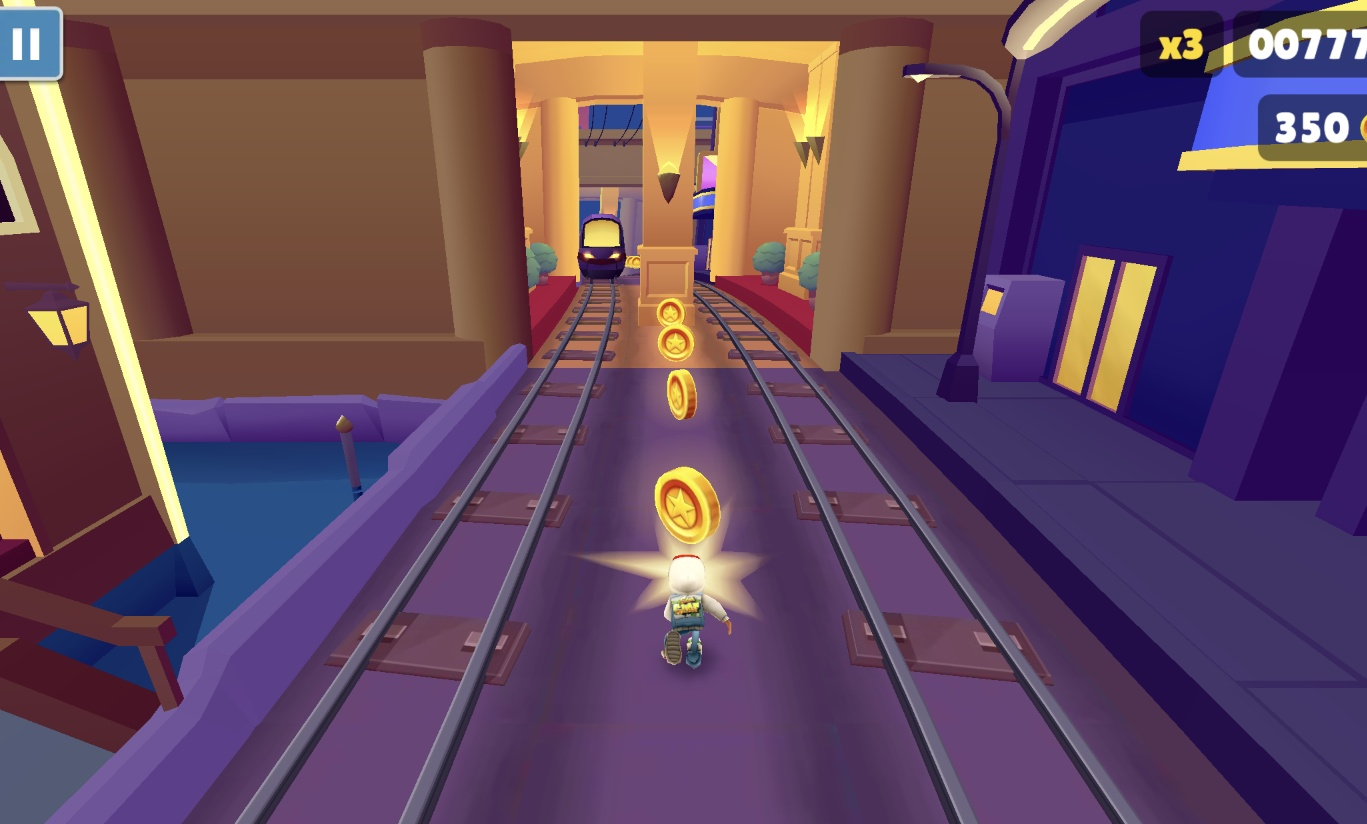pillar: (637, 56, 700, 319)
train: (576, 213, 628, 285)
